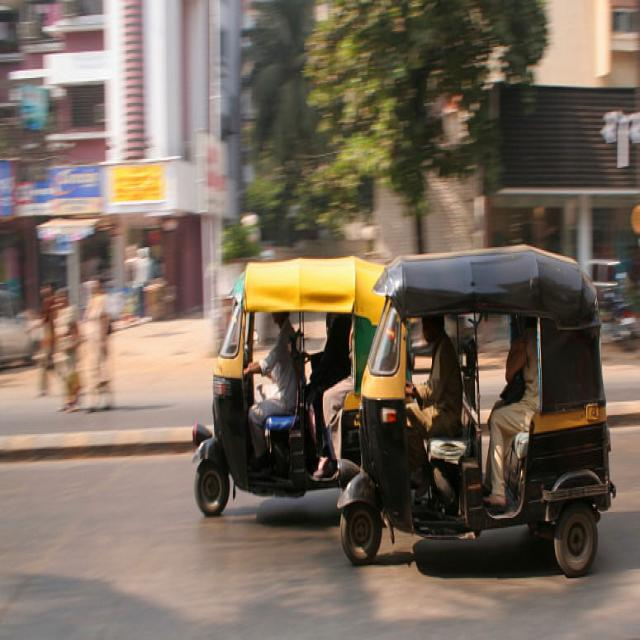autorickshaw: (339, 249, 615, 577), (194, 258, 381, 517)
